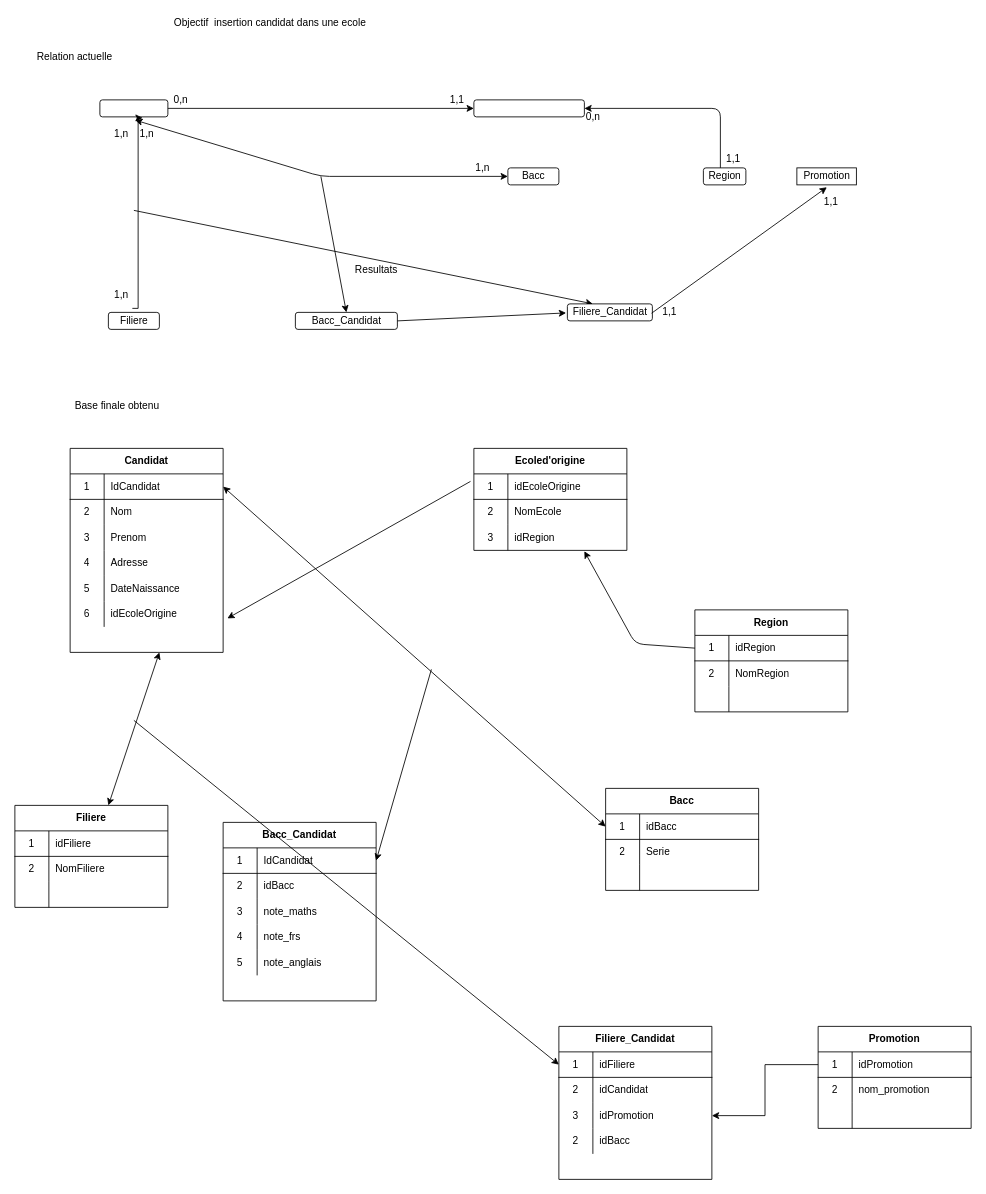
Image size: 986x1194. Some labels were removed from this diagram. The centre of each missing label's shape, as x and y in pixels:
"Candidats" belongs at point (133, 108).
"Ecole d'origine" belongs at point (528, 108).
